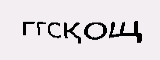Қ: (62, 20, 83, 46)
